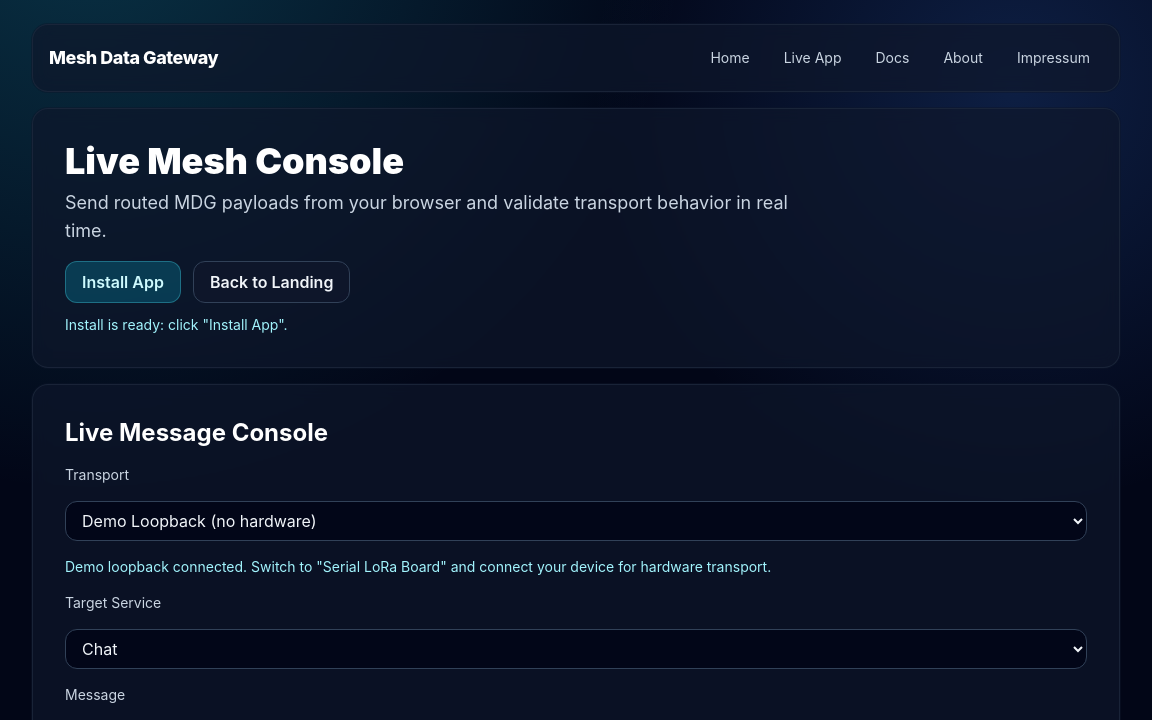
Test: App › can handle install prompt accept flow
Check: the text "Install is ready: click \"Install App\"." is shown, box [65,316,288,333]
Click the button "Install App". click: (123, 282)
box: [65,261,181,303]
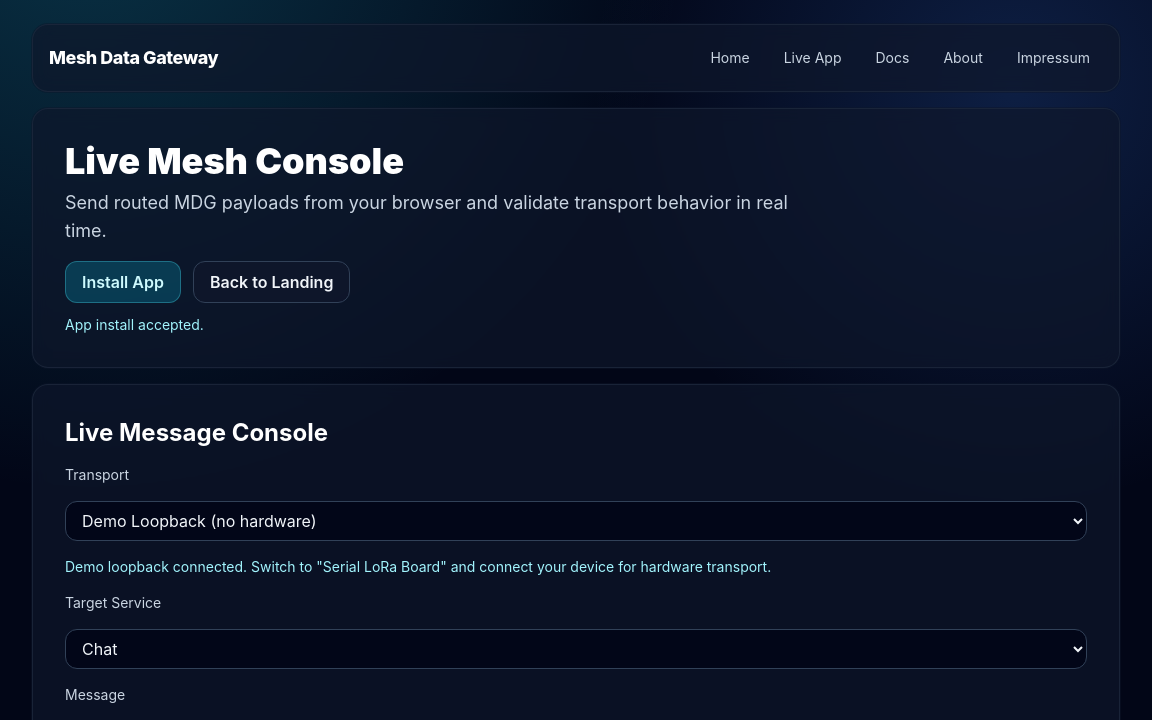
Check: the text "App install accepted." is shown, box [65,316,204,333]
